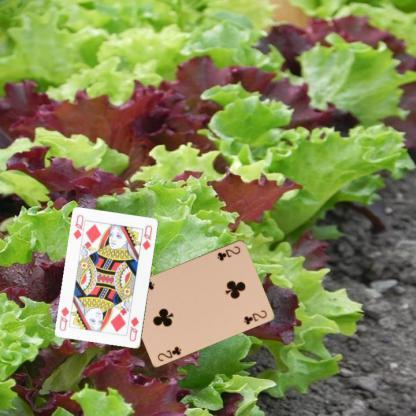2c: (214, 244, 242, 262), (154, 344, 182, 362)
Qd: (72, 212, 86, 244), (127, 314, 140, 343)
